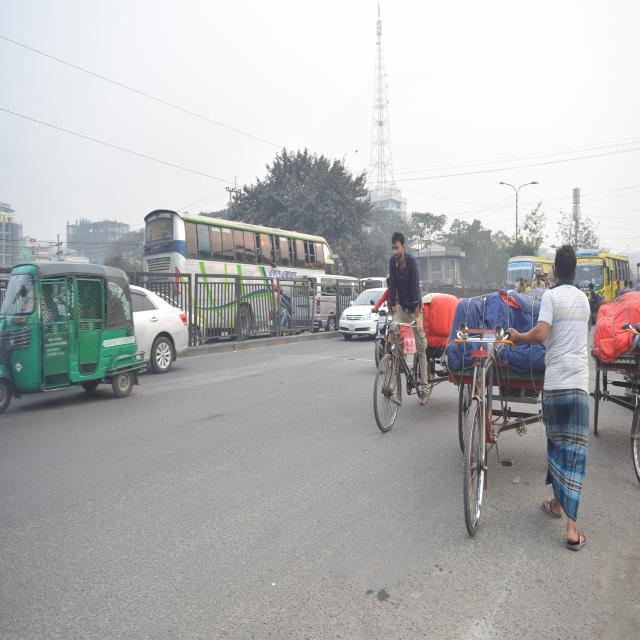bus: (143, 208, 348, 346), (574, 254, 634, 303), (500, 257, 551, 312)
car: (130, 285, 192, 365), (337, 274, 393, 352)
